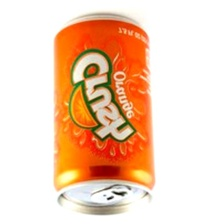can: (49, 10, 157, 223)
